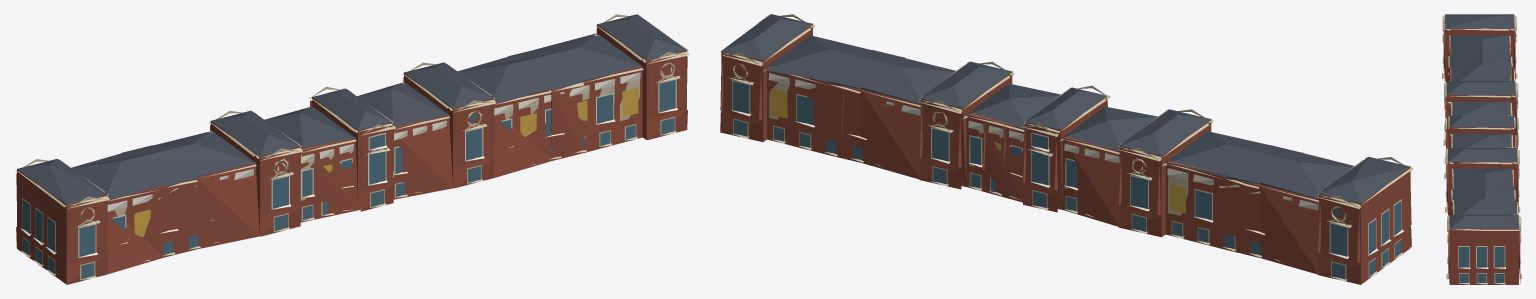
File: artis-library.lod1.glb
3 renders of one model, left to right at view 1: azimuth 30°, elevation 25°; view 2: azimuth 150°, elevation 25°; view 3: azimuth 270°, elevation 25°, orthographic. The views are drawn at different scales.
Visible parts, largest first — view 1: artis-library; view 2: artis-library; view 3: artis-library.
Boxes of the visible parts, <box> form: artis-library: <box>15,14,689,284</box>; artis-library: <box>720,14,1413,284</box>; artis-library: <box>1442,14,1521,284</box>.
Bounding box in the file's own units: 80.87 × 10.8 × 12.59.
